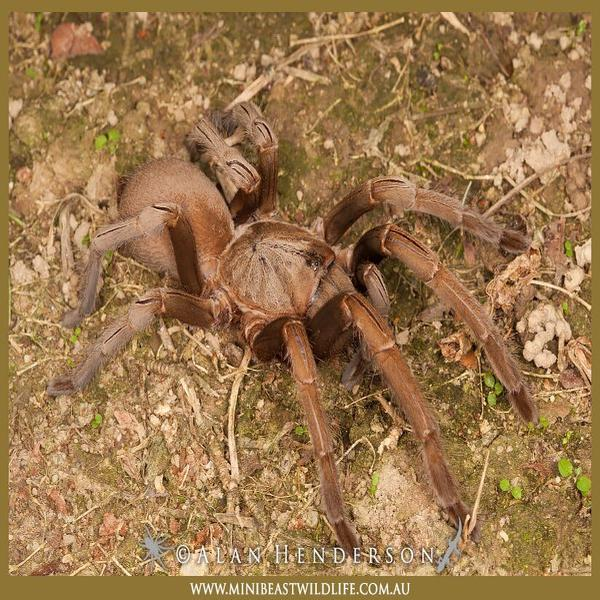Tarantula Spider: (88, 105, 533, 548)
